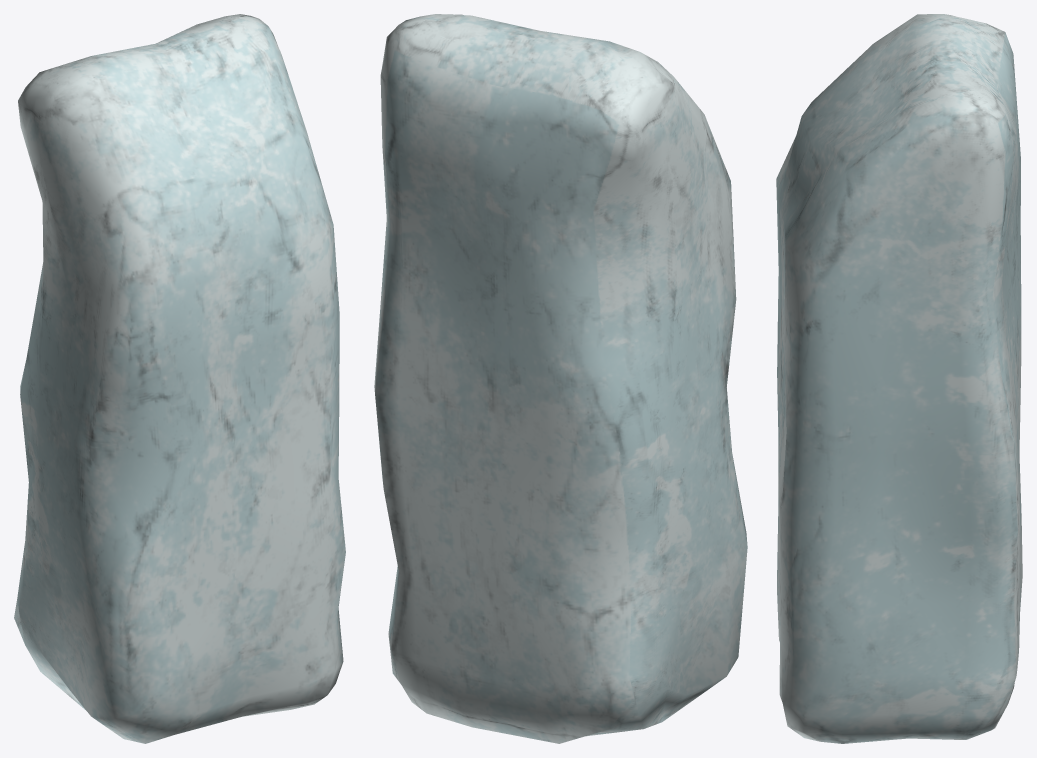
The model's file is IceBrock001.fbx.
The picture shows the model from 3 angles, left to right: view 1: azimuth 30°, elevation 25°; view 2: azimuth 150°, elevation 25°; view 3: azimuth 270°, elevation 25°; orthographic projection. The views are drawn at different scales.
Parts seen in each view (by area): view 1: ice_brock4_low; view 2: ice_brock4_low; view 3: ice_brock4_low.
Part boxes in pixels (left/top/right/bottom): ice_brock4_low: left=14, top=14, right=345, bottom=743; ice_brock4_low: left=374, top=14, right=747, bottom=743; ice_brock4_low: left=776, top=14, right=1022, bottom=743.
Size of the model in its own units: 0.0766 by 0.1833 by 0.0631.
1 material, 1 textured.
